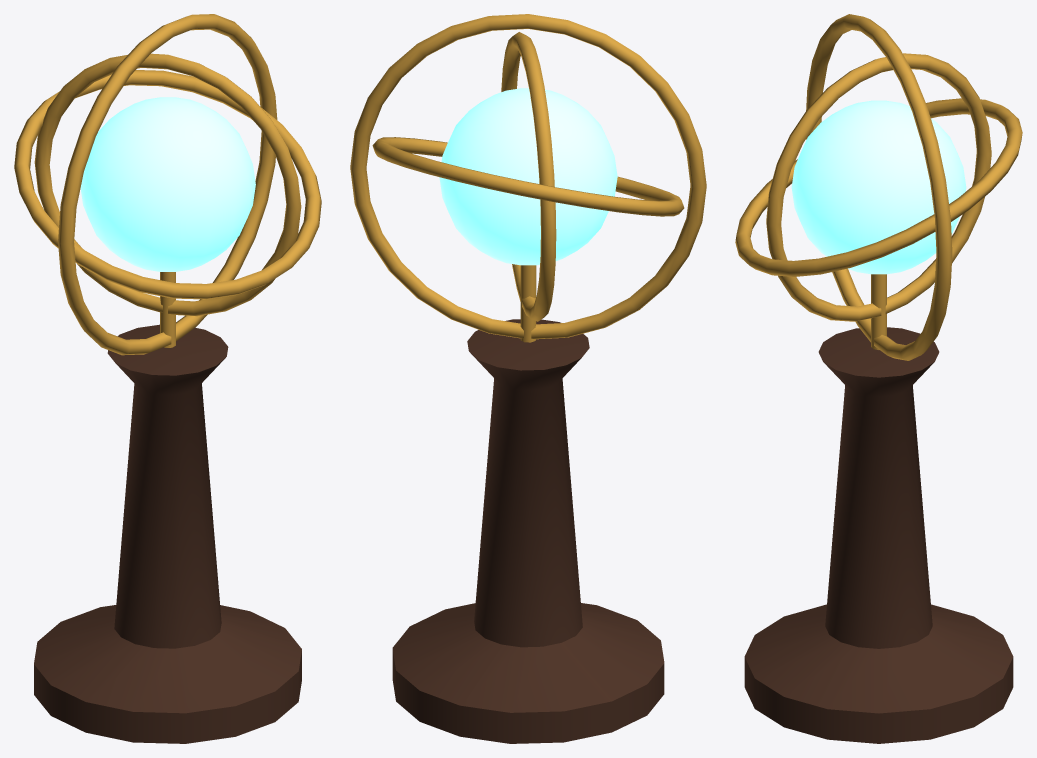
The model's file is magic_globe.glb.
3 views of the same model, side by side, from view 1: azimuth 30°, elevation 25°; view 2: azimuth 150°, elevation 25°; view 3: azimuth 270°, elevation 25° (orthographic). The views are drawn at different scales.
Parts seen in each view (by area): view 1: magic_globe; view 2: magic_globe; view 3: magic_globe.
Boxes of the visible parts, x1,y1,x2,y2 form: magic_globe: (14,14,321,743); magic_globe: (350,14,706,743); magic_globe: (735,14,1022,743).
Size of the model in its own units: 0.4826 by 1.08 by 0.4274.
